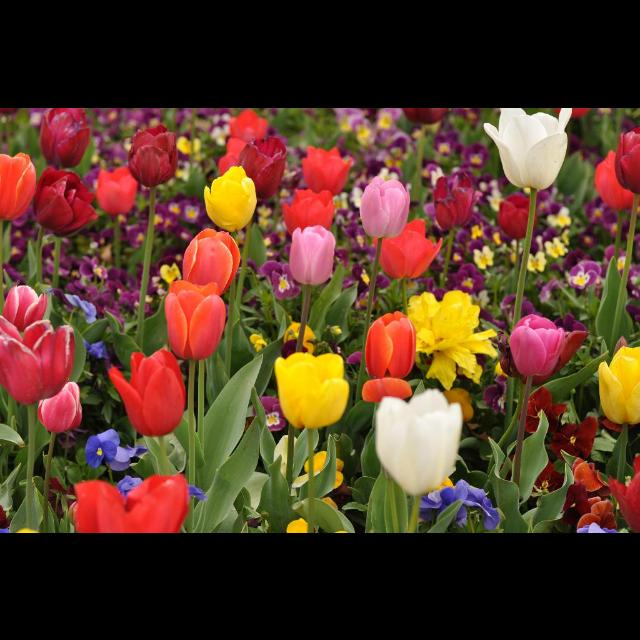Flower: (1, 108, 640, 532), (480, 372, 640, 532), (371, 385, 469, 505), (407, 288, 497, 392), (482, 108, 572, 190), (111, 348, 187, 438), (0, 316, 76, 404), (74, 474, 188, 532), (276, 353, 350, 431), (163, 278, 227, 360), (416, 478, 502, 532), (36, 167, 98, 241), (373, 220, 443, 282), (359, 310, 416, 380), (184, 228, 242, 296), (202, 165, 258, 235), (508, 313, 564, 381), (596, 346, 640, 426), (128, 122, 178, 190), (35, 108, 91, 168), (359, 175, 409, 239), (432, 172, 482, 235), (238, 138, 288, 198), (281, 187, 337, 240), (594, 150, 640, 212), (83, 428, 147, 472), (0, 152, 40, 222), (289, 226, 335, 286), (300, 146, 354, 196), (36, 382, 84, 432), (5, 284, 45, 336), (96, 168, 136, 220), (302, 451, 350, 491), (498, 193, 538, 241), (616, 124, 640, 196), (250, 396, 290, 434), (226, 110, 268, 142), (358, 377, 414, 401), (218, 140, 248, 172), (400, 108, 448, 126), (118, 474, 148, 496), (286, 516, 318, 532), (319, 494, 341, 512), (435, 478, 459, 490), (188, 486, 208, 500)
